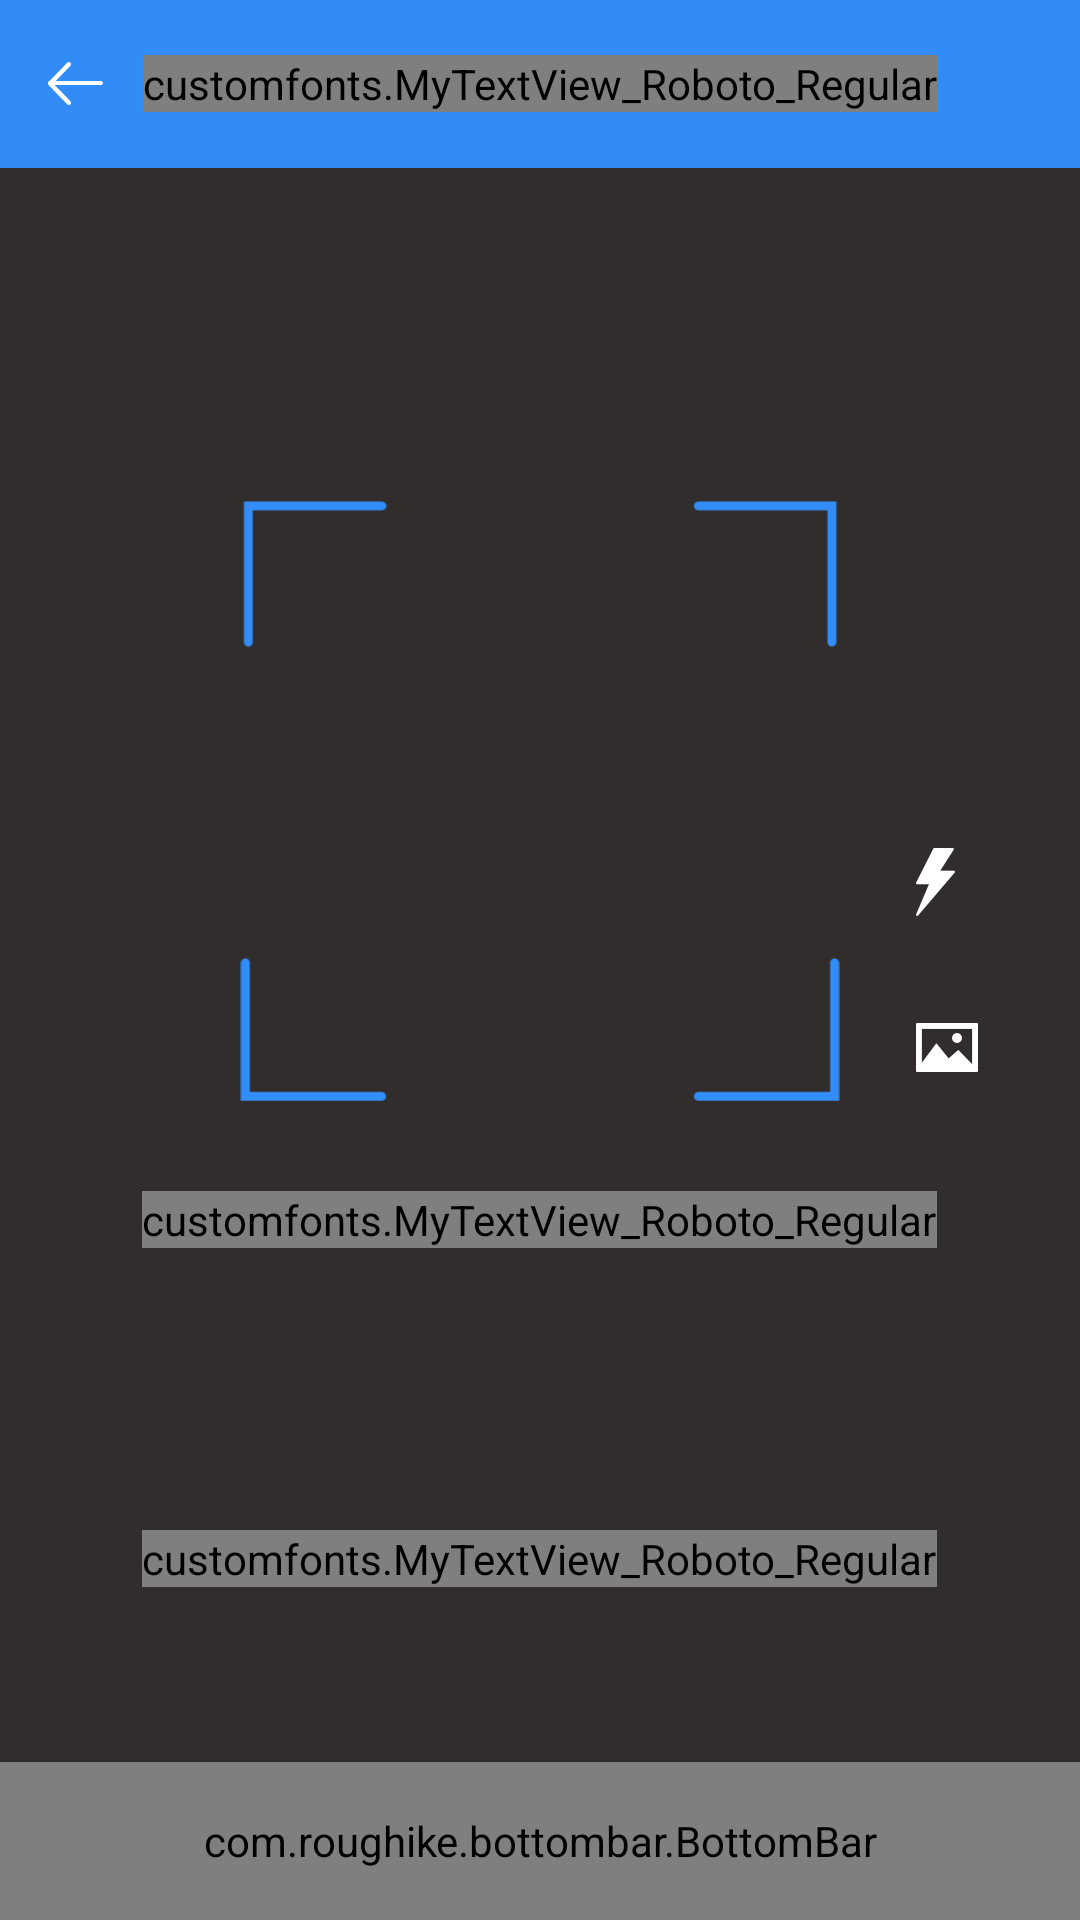

Icons on this 1080w x 1920h Android screen, each with its box as (x1, y1, x2, y2):
back: (48, 62, 103, 105)
flash: (916, 848, 955, 916)
